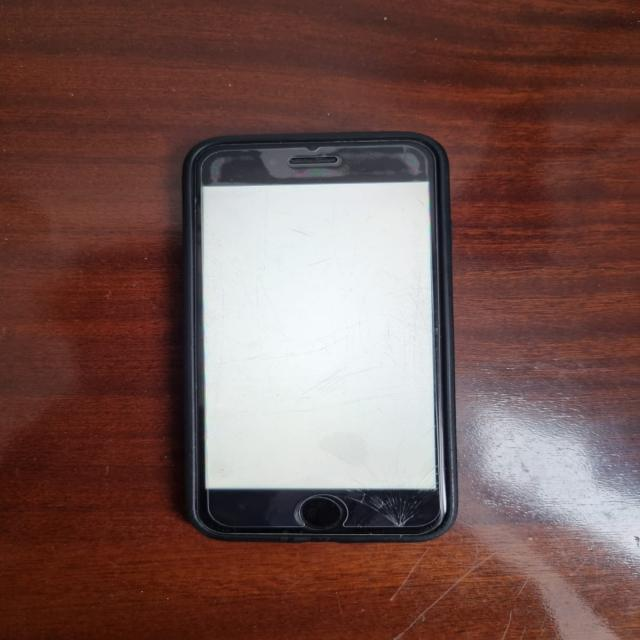Scratches: (207, 199, 433, 481)
